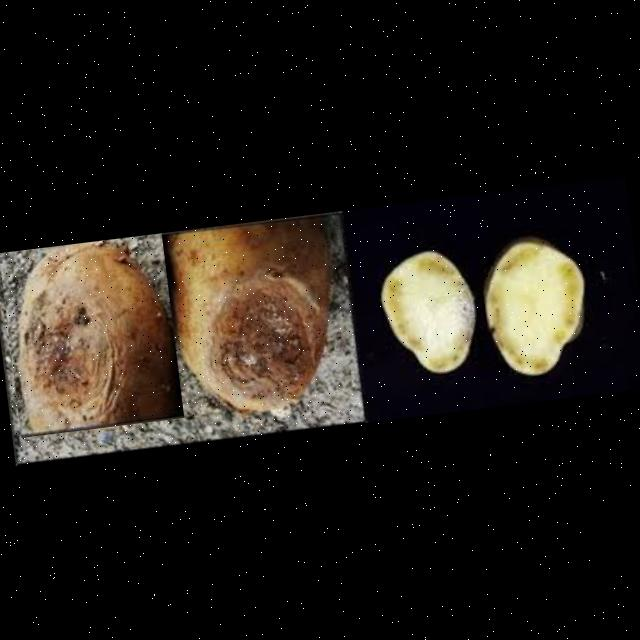Damaged potato: (0, 232, 183, 437)
Potato: (160, 211, 356, 418)
